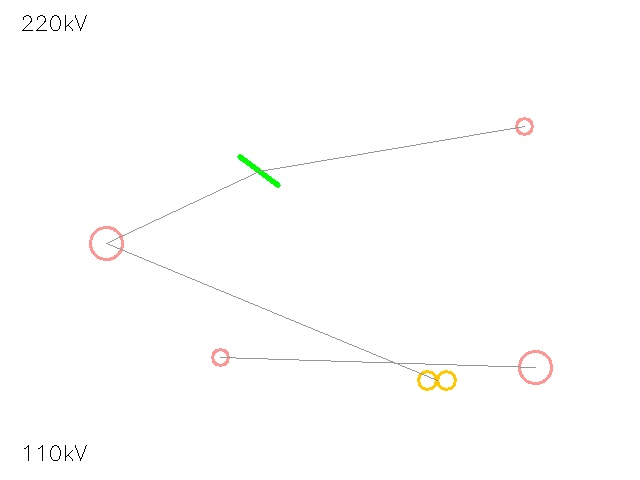busbar: (229, 141, 289, 201)
current_transformer: (507, 109, 541, 143)
load_break_switch: (502, 334, 568, 400), (74, 211, 138, 275)
transformer_2w: (414, 357, 460, 403)
voltage_transformer: (204, 341, 236, 373)
